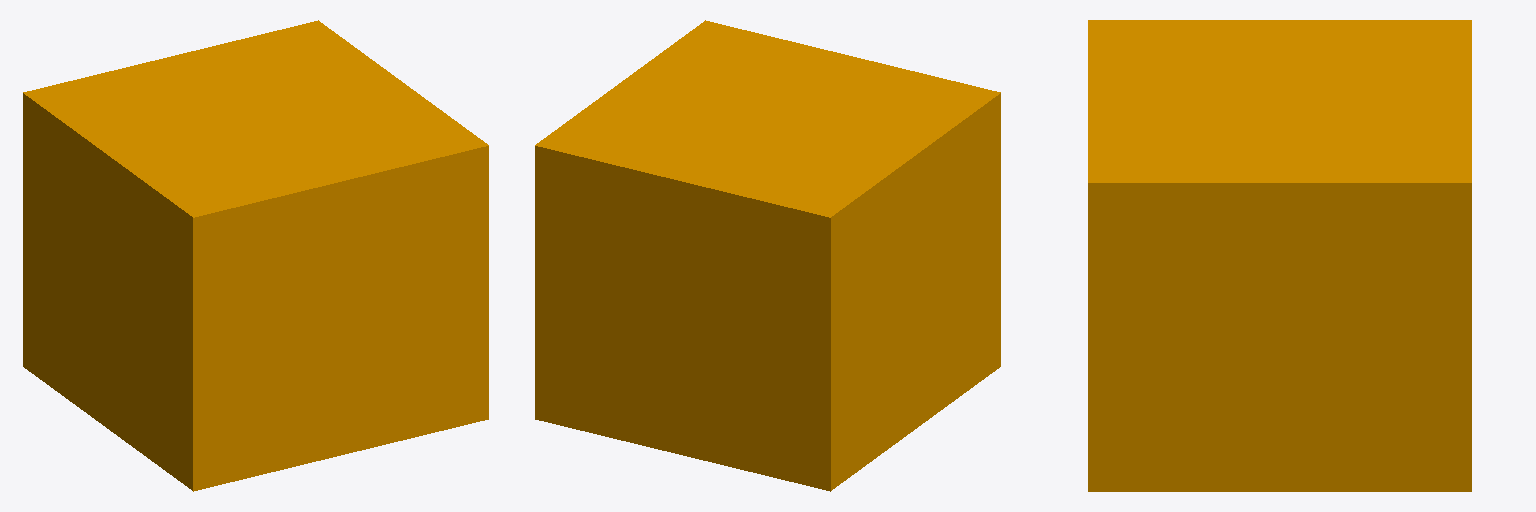
The robot description file, URDF, robot "cube.urdf":
<robot name="cube.urdf">
  <link name="baseLink">
    <contact>
      <lateral_friction value="0.5" />
      <rolling_friction value="0.001" />
      <spinning_friction value="0.001" />
    </contact>
    <inertial>
      <origin rpy="0 0 0" xyz="0 0 0" />
       <mass value="0.1" />
       <inertia ixx="1" ixy="0" ixz="0" iyy="1" iyz="0" izz="1" />
    </inertial>
    <visual>
      <origin rpy="0 0 0" xyz="0 0 0" />
      <geometry>
         <mesh filename="cube.obj" scale="1.131370849898476 1.131370849898476 1" />
      </geometry>
    </visual>
    <collision>
      <origin rpy="0 0 0" xyz="0 0 0" />
      <geometry>
	 	    <mesh filename="cube.obj" scale="1.131370849898476 1.131370849898476 1" />
      </geometry>
    </collision>
  </link>
</robot>

--- Facts derived from the render (not from the file) ---
Views: 3 orthographic renders of the robot side by side, from view 1: azimuth 30°, elevation 25°; view 2: azimuth 150°, elevation 25°; view 3: azimuth 270°, elevation 25°.
Model cube.urdf with 1 links and 0 joints (none), rooted at baseLink, posed every joint at zero.
Visible links, largest first — view 1: baseLink; view 2: baseLink; view 3: baseLink.
Boxes of the visible links, x1,y1,x2,y2 form: baseLink: (23, 20, 488, 491); baseLink: (535, 20, 1000, 491); baseLink: (1088, 20, 1471, 491).
Size in the robot's own frame: 0.0566 by 0.0566 by 0.05 metres.
1 mesh visuals loaded from 1 distinct referenced files (1 OBJ).
